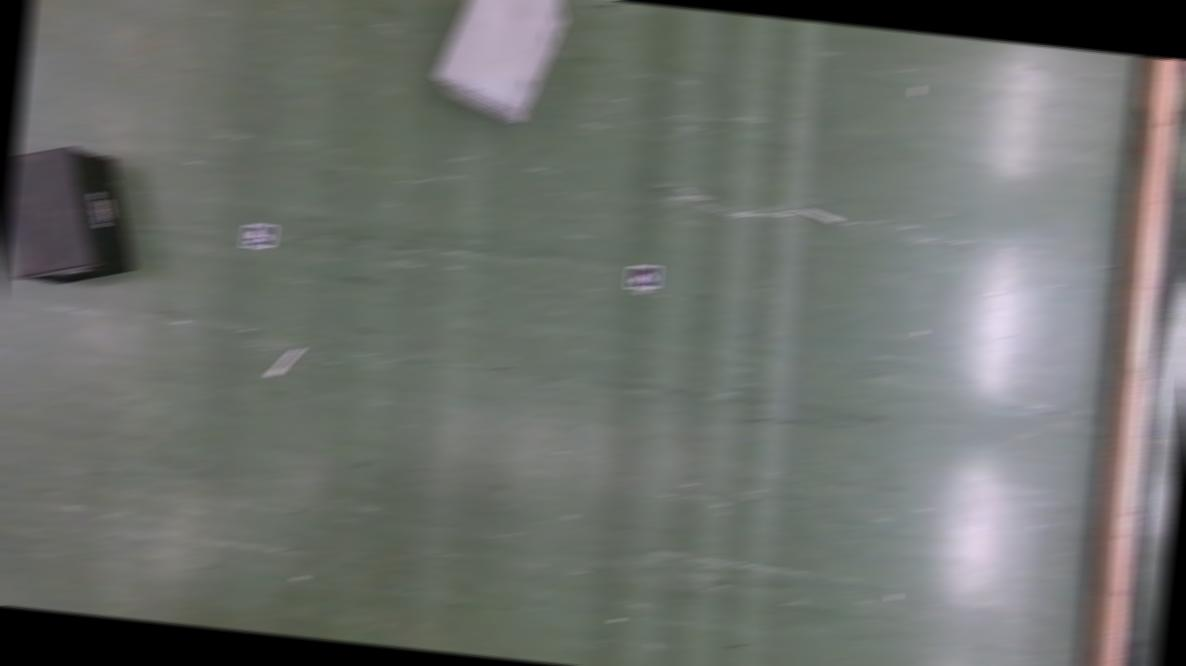probes: (266, 344, 302, 379), (798, 207, 840, 224)
rako: (0, 140, 147, 292), (424, 0, 570, 129)
